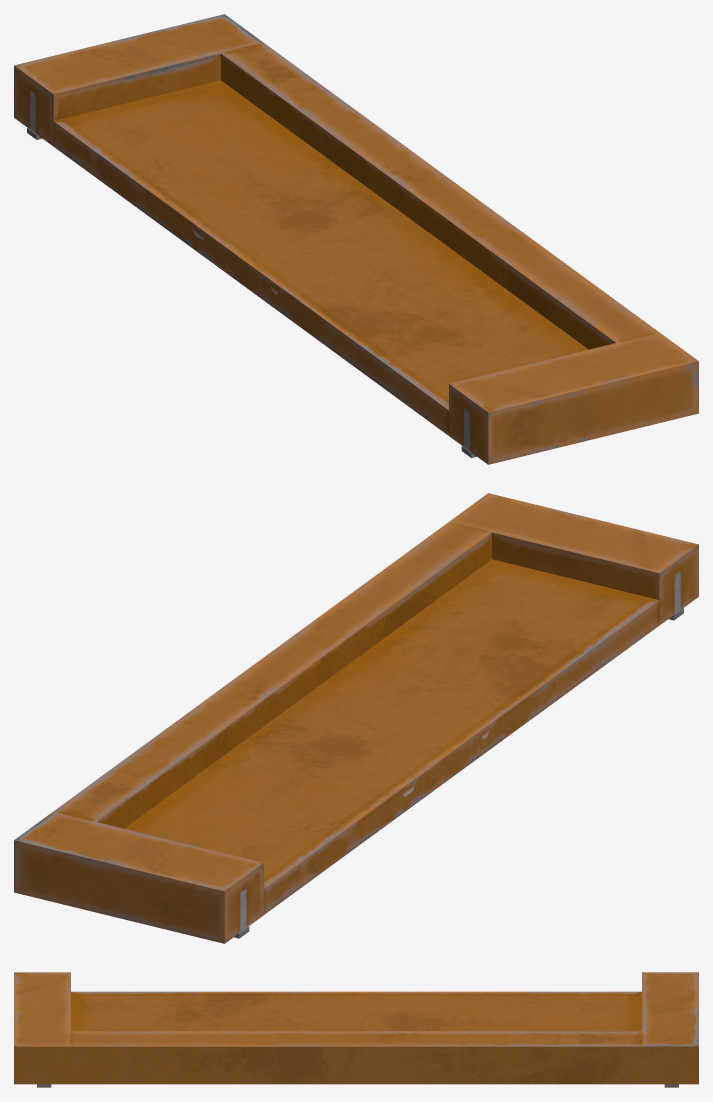
The model's file is CP_Metro_Bench.fbx.
The picture shows the model from 3 angles, top to bottom: view 1: azimuth 30°, elevation 25°; view 2: azimuth 150°, elevation 25°; view 3: azimuth 270°, elevation 25°; orthographic projection. The views are drawn at different scales.
Parts seen in each view (by area): view 1: CP_Metro_Bench; view 2: CP_Metro_Bench; view 3: CP_Metro_Bench.
Part boxes in pixels (<box>): CP_Metro_Bench: <box>14,14,698,464</box>; CP_Metro_Bench: <box>14,493,698,943</box>; CP_Metro_Bench: <box>14,972,698,1087</box>.
Size of the model in its own units: 61.61 by 15.85 by 239.
